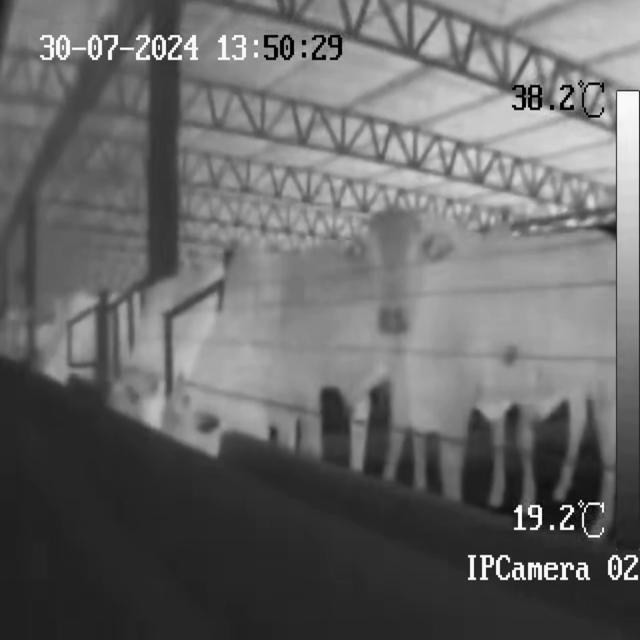eye: (367, 236, 385, 272), (406, 242, 422, 271)
head: (358, 198, 426, 344)
